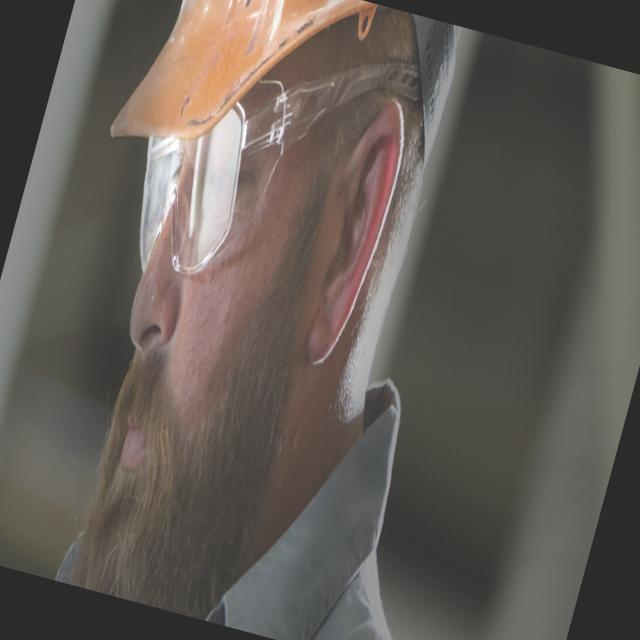goggles: (111, 0, 428, 339)
helmet: (97, 0, 473, 238)
